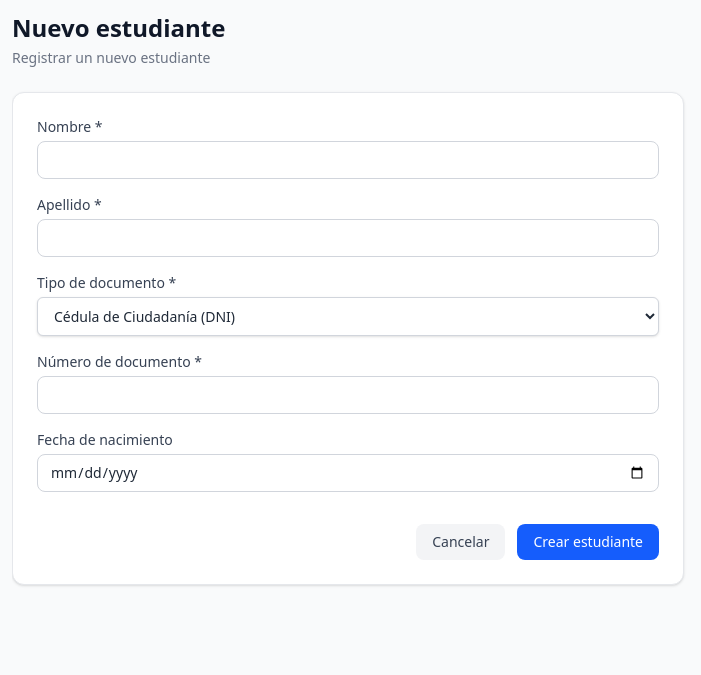
StudentFormPage › shows validation errors on empty submit
Click the button "Crear estudiante" at x=588, y=542, box [518, 524, 659, 560]
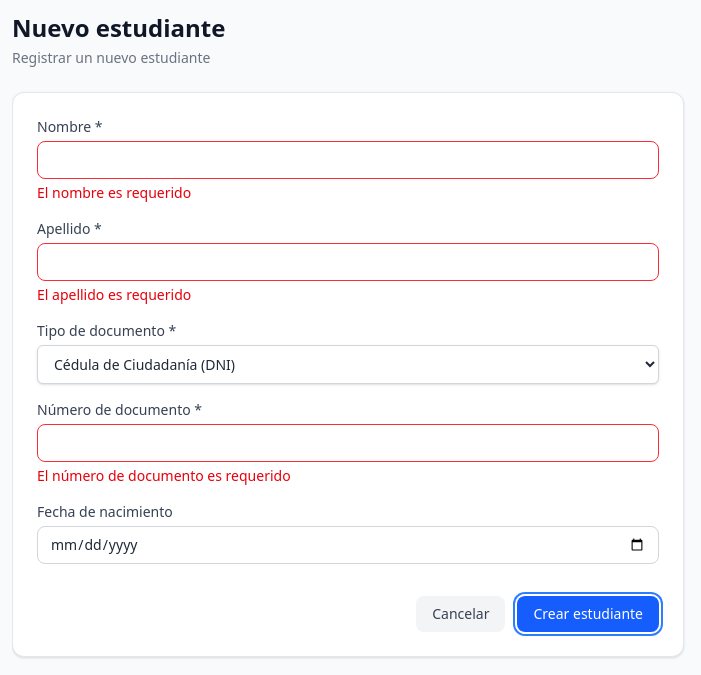
Now the text "El nombre es requerido" is shown, box [37, 183, 191, 202]
Now the text "El apellido es requerido" is shown, box [37, 285, 191, 304]
